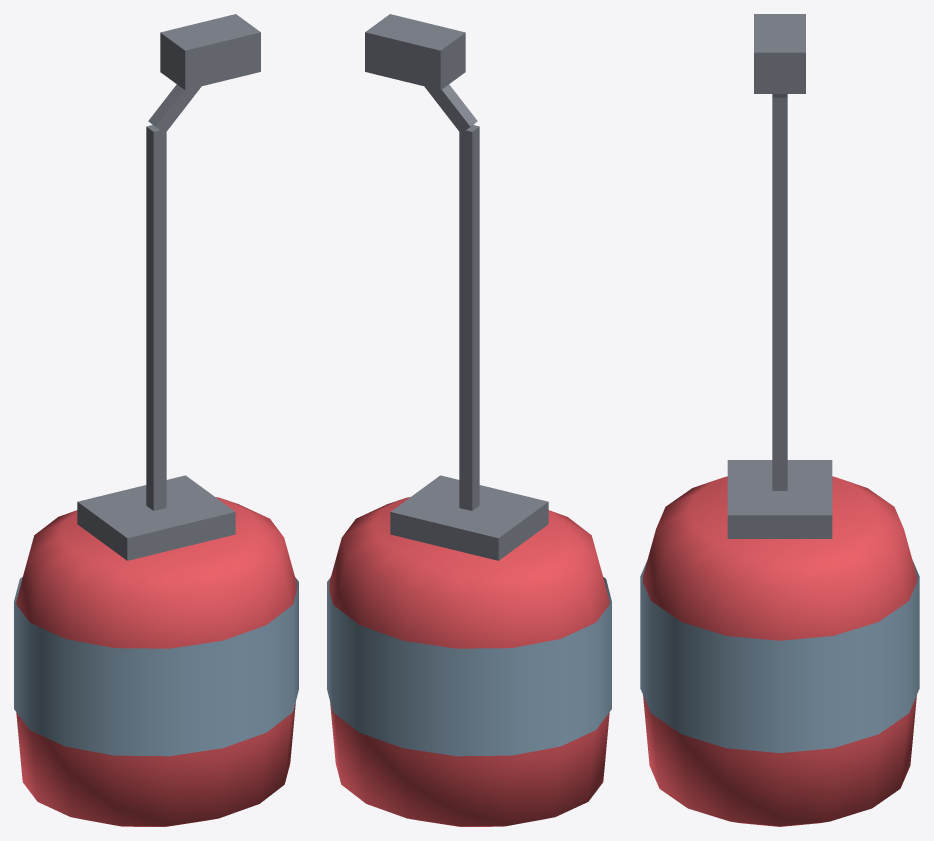
File: gondola_cabin.glb
The picture shows the model from 3 angles, left to right: view 1: azimuth 30°, elevation 25°; view 2: azimuth 150°, elevation 25°; view 3: azimuth 270°, elevation 25°; orthographic projection. The views are drawn at different scales.
Visible parts, largest first — view 1: gondola_cabin; view 2: gondola_cabin; view 3: gondola_cabin.
Part boxes in pixels (x1,y1,x2,y2): gondola_cabin: (14, 14, 298, 826); gondola_cabin: (327, 14, 611, 826); gondola_cabin: (640, 14, 919, 826).
Bounding box in the file's own units: 2.34 × 6.53 × 2.14.
